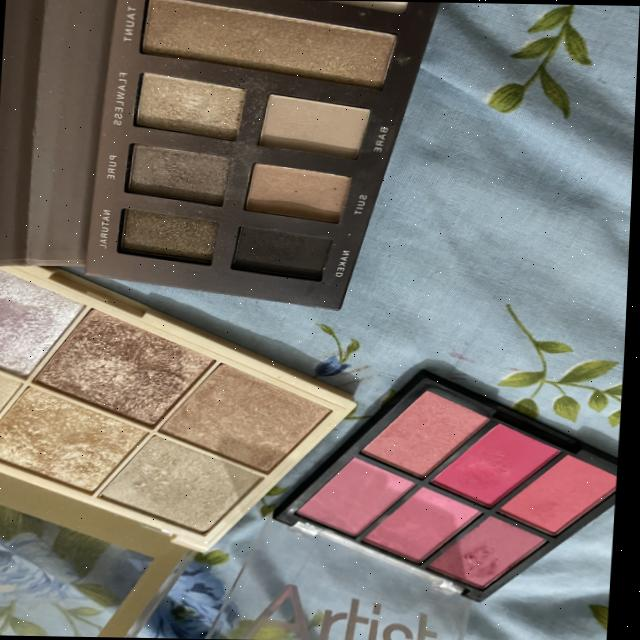blush: (349, 368, 497, 484), (284, 450, 432, 545), (430, 500, 557, 600), (424, 421, 564, 511), (501, 448, 622, 544), (364, 476, 488, 567)
eye shade: (128, 0, 417, 87), (125, 67, 264, 142), (250, 89, 389, 159), (117, 138, 248, 208), (105, 200, 232, 270), (238, 160, 369, 224), (220, 224, 350, 282)
highlighter: (22, 300, 224, 443), (153, 356, 348, 480), (91, 423, 280, 538), (0, 380, 166, 498), (0, 258, 98, 388), (0, 349, 39, 466)
